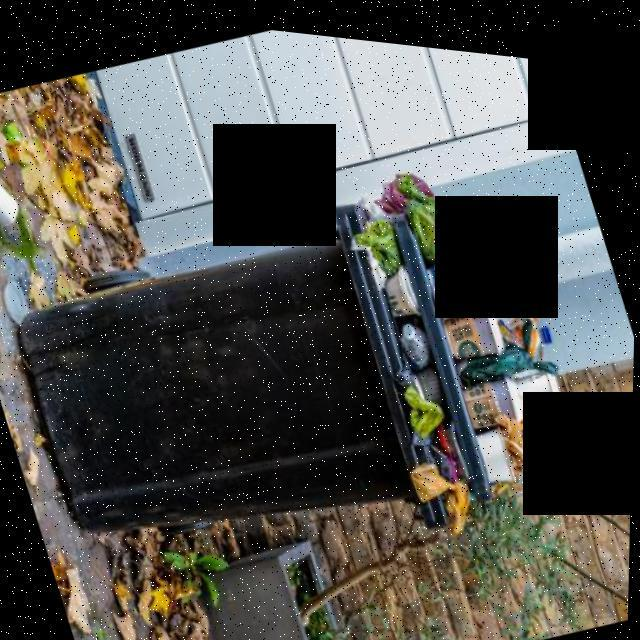bin: (0, 144, 481, 640)
